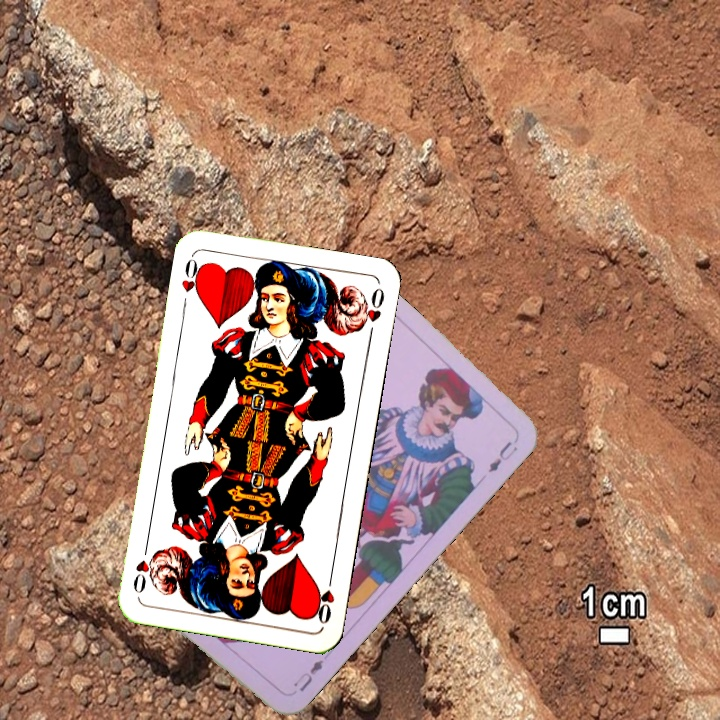EU: (289, 655, 326, 695)
HO: (309, 569, 337, 627), (177, 252, 207, 300)
